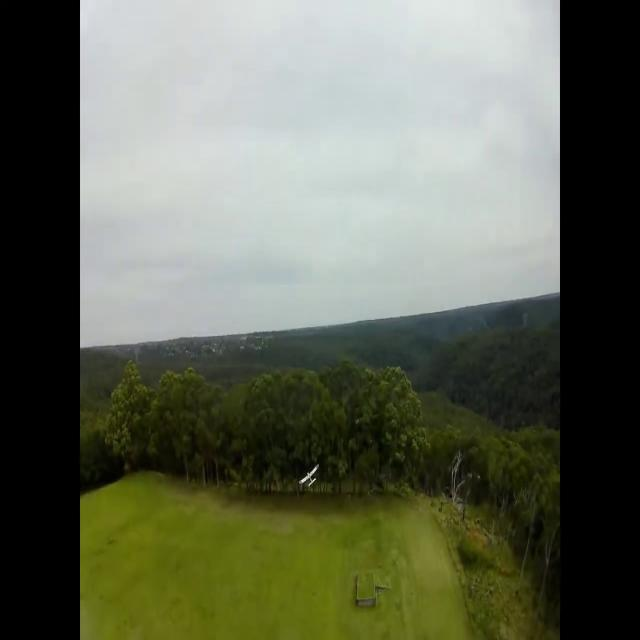iha: (298, 466, 319, 486)
